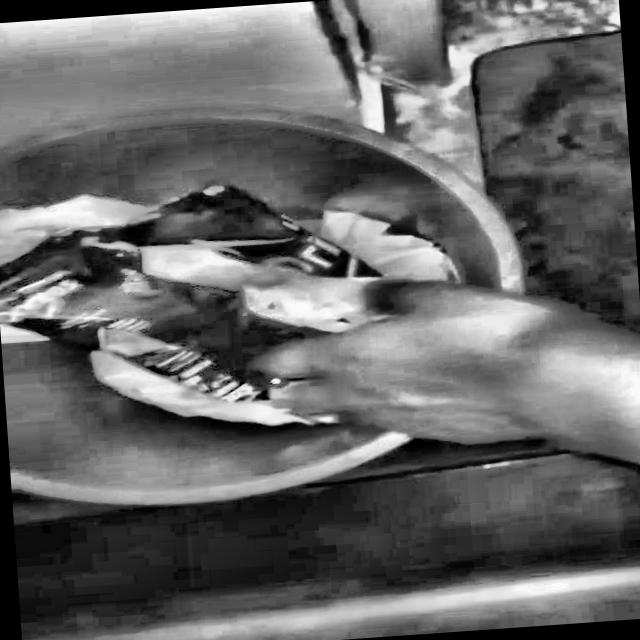Empty: (0, 85, 494, 486)
